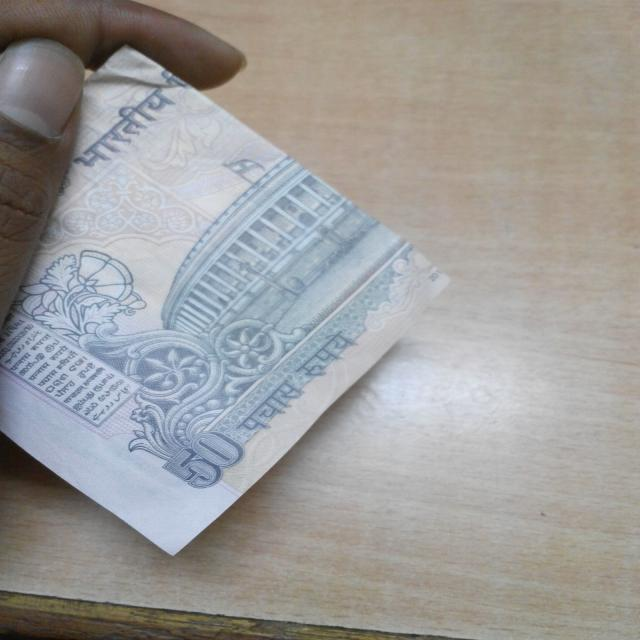50rs: (2, 44, 448, 566)
